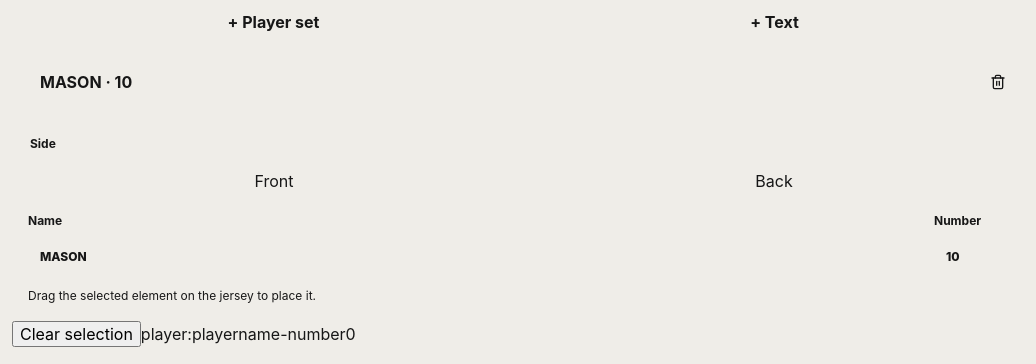
Test: PersonalizePanel › locks side controls and does not request focus when a player side update fails
Click the button "Back": [774, 181] box [528,159,1020,203]
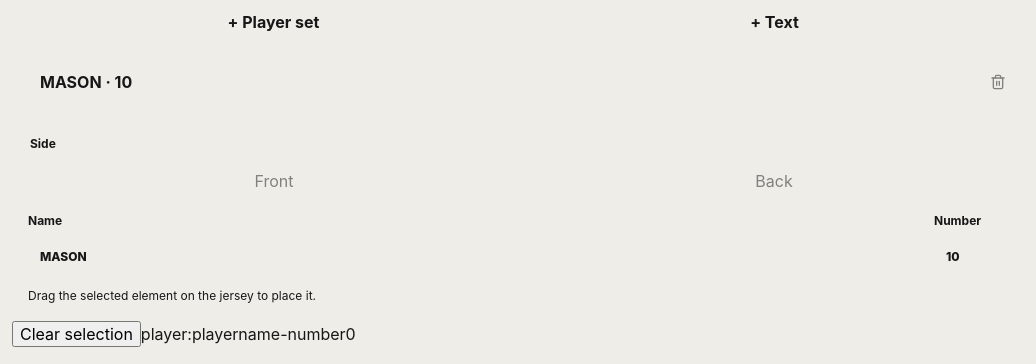
Expected: the button "Front" is disabled
Expected: the button "Back" is disabled, [528,159,1020,203]
Click the button "Front": [274, 181] box [28,159,520,203]
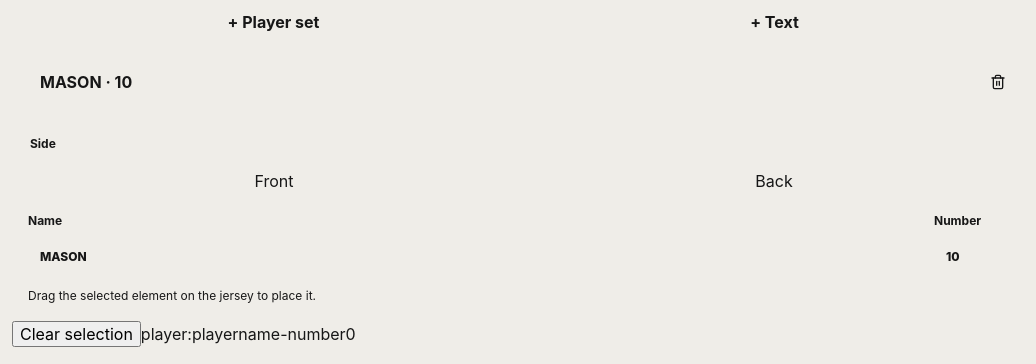
Expected: the button "Front" is enabled, [28,159,520,203]
Expected: the button "Back" is enabled, [528,159,1020,203]
